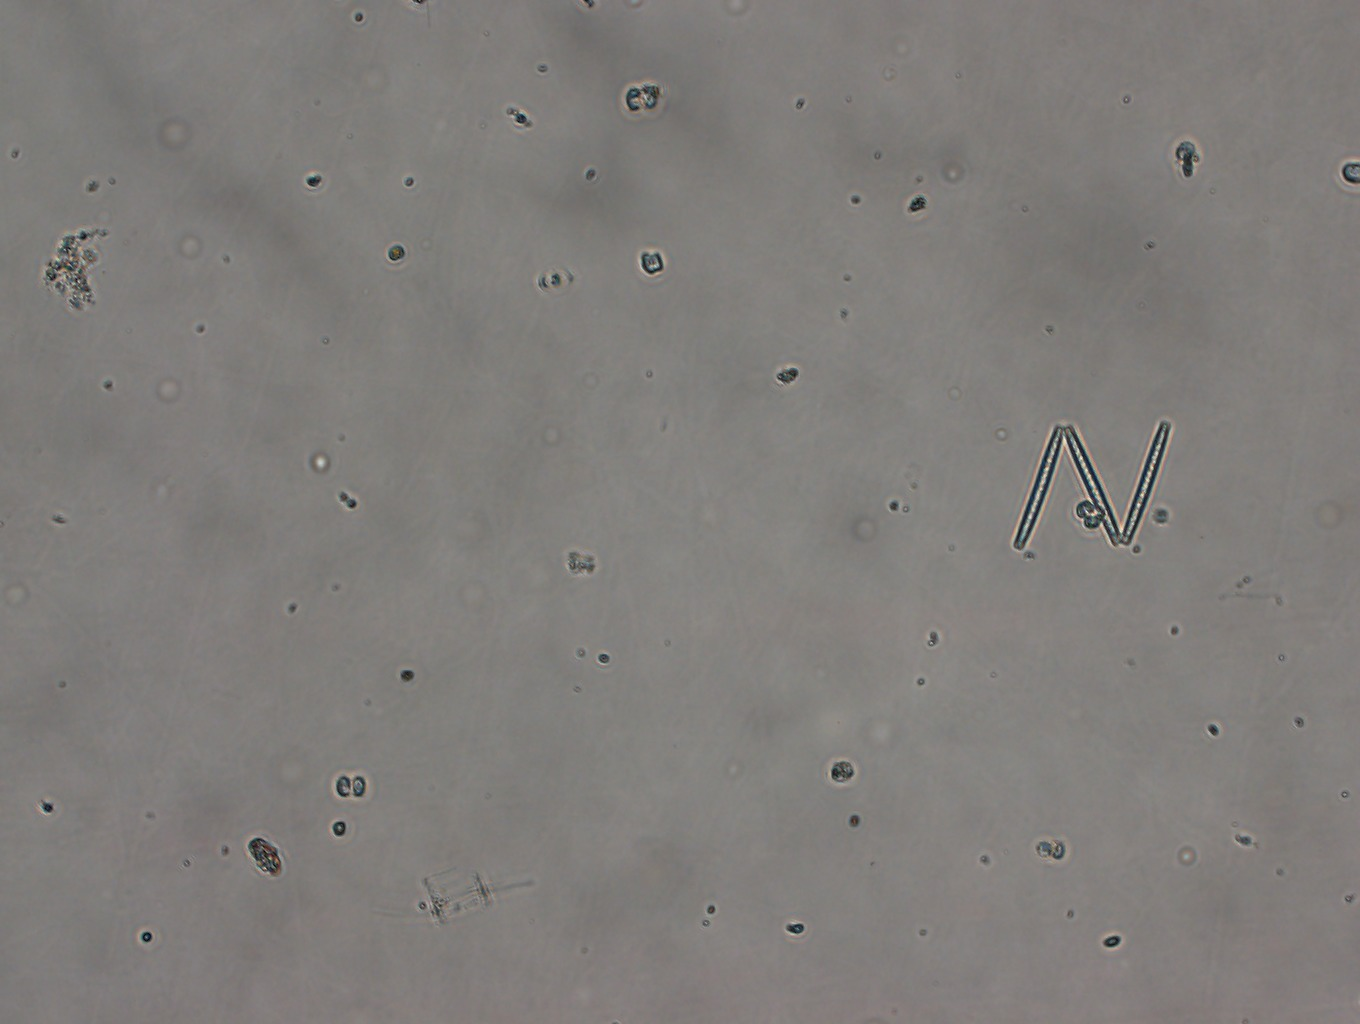thalassionema nitzschioides: (1011, 419, 1173, 552)
